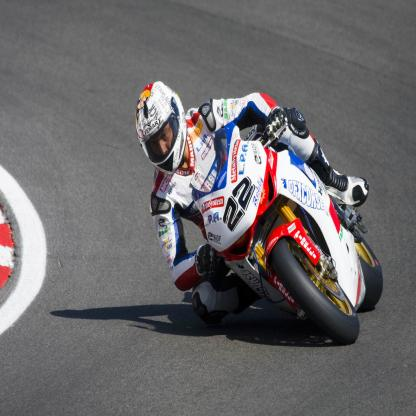Helmet: (136, 80, 188, 176)
